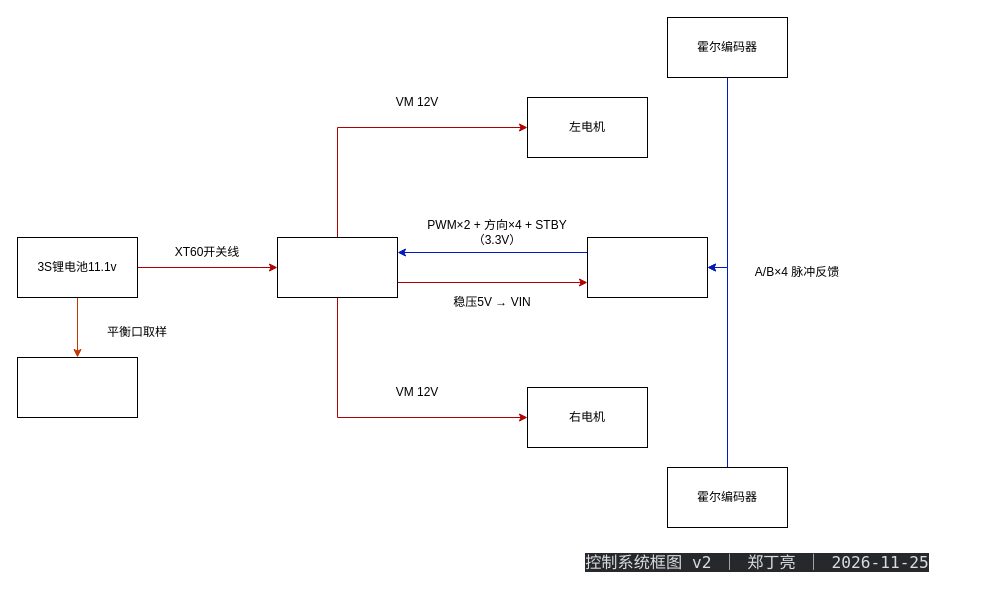
The diagram is 1005 pixels wide and 595 high, and some of its shapes have lost their labels. Here are the shapes that lost their labels. From the top down, the centre of each, then its label:
At point 337,267: "TB6612双路驱动带稳压5V".
At point 647,267: "ESP32 主控板".
At point 77,387: "BB响".
